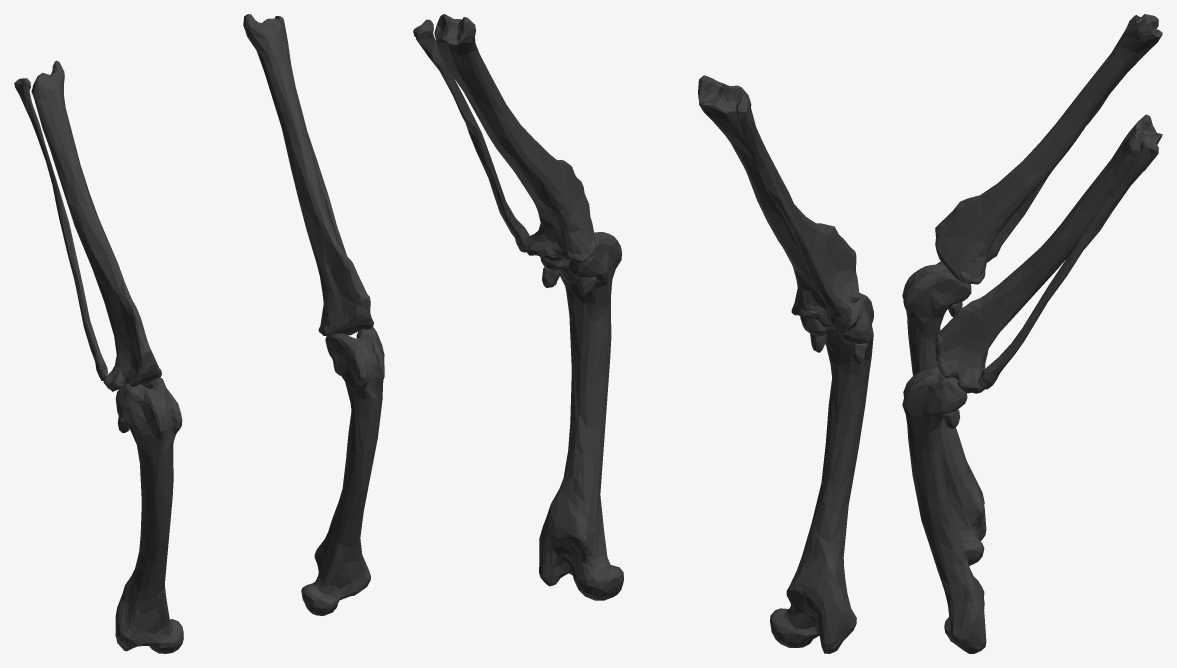
The model's file is b_femur_tibia_fibula.glb.
The picture shows the model from 3 angles, left to right: view 1: azimuth 30°, elevation 25°; view 2: azimuth 150°, elevation 25°; view 3: azimuth 270°, elevation 25°; orthographic projection. The views are drawn at different scales.
Parts seen in each view (by area): view 1: b_femur_tibia_fibula; view 2: b_femur_tibia_fibula; view 3: b_femur_tibia_fibula.
Part boxes in pixels (box(x1,y1,x2,y2)): b_femur_tibia_fibula: box(14, 14, 384, 653); b_femur_tibia_fibula: box(413, 14, 873, 653); b_femur_tibia_fibula: box(902, 14, 1162, 653).
Bounding box in the file's own units: 0.0544 × 0.1025 × 0.045.
Materials: 1 (1 with a texture image).
